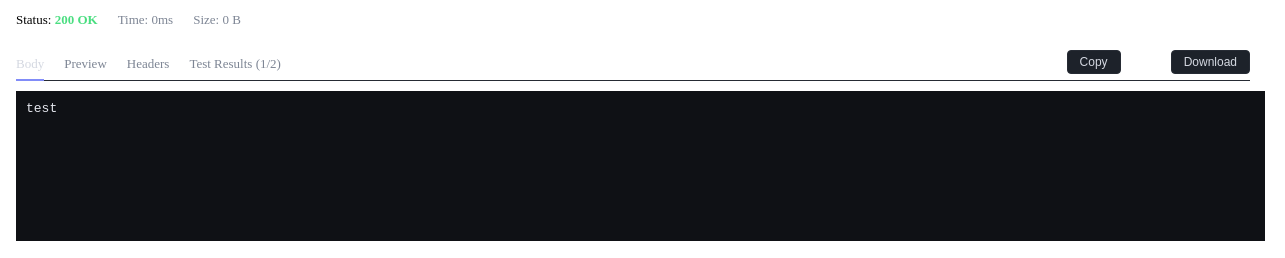
Test: ResponseViewer › should render test results
Click the text "Test Results (1/2)" at (235, 64), box [189,56,281,71]
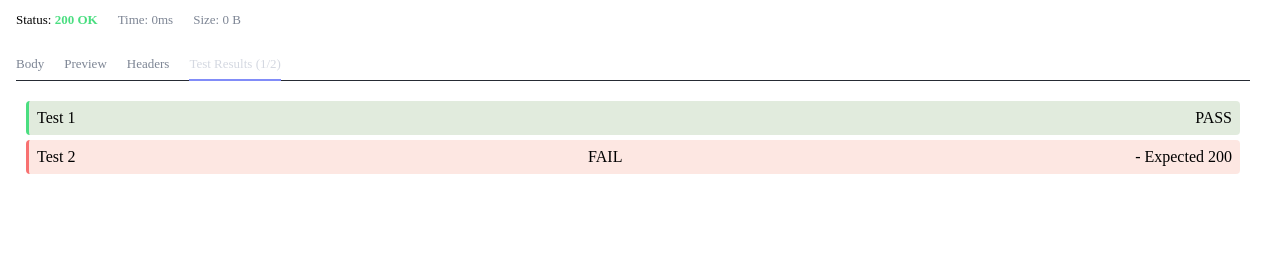
Result: the text "Test 1" is shown at [37,109,75,127]
Result: the text "PASS" is shown at [1195,109,1232,127]
Result: the text "Test 2" is shown at [37,148,75,166]
